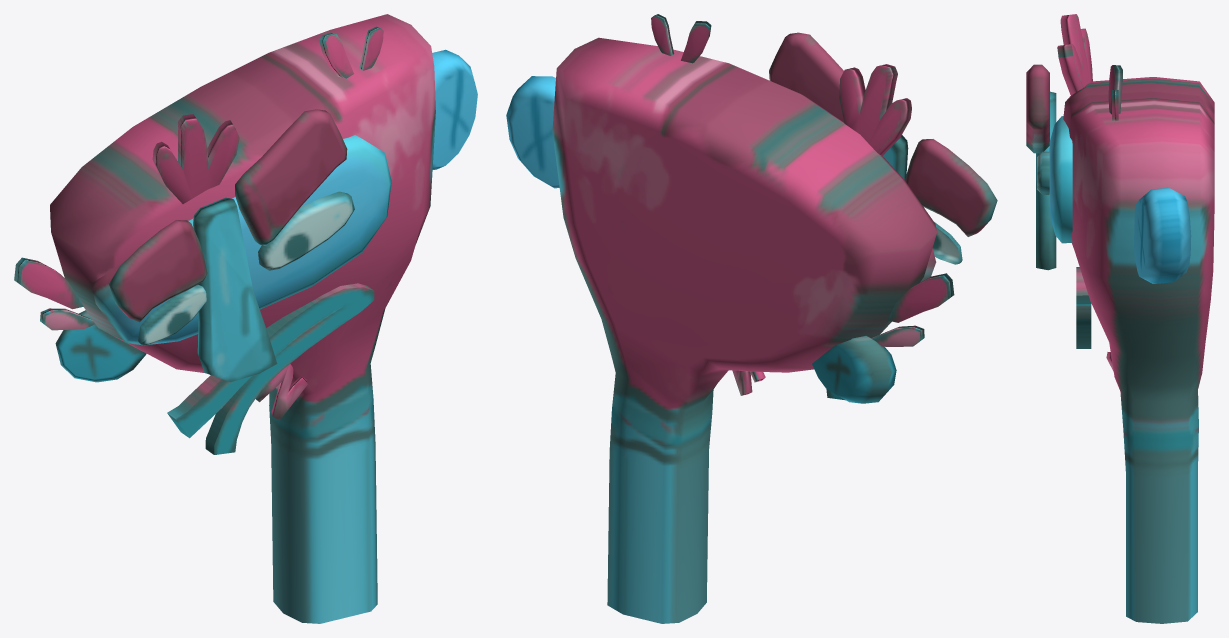
File: head_Hair.fbx
3 renders of one model, left to right at view 1: azimuth 30°, elevation 25°; view 2: azimuth 150°, elevation 25°; view 3: azimuth 270°, elevation 25°, orthographic. The views are drawn at different scales.
Visible parts, largest first — view 1: Head, eyebrowR, EyebrowL, eyeR, eyeL; view 2: Head, EyebrowL, eyebrowR, eyeL; view 3: Head, eyebrowR, eyeR.
Boxes of the visible parts, <box> form: Head: <box>14,14,477,623</box>; eyebrowR: <box>235,109,347,245</box>; EyebrowL: <box>109,220,207,322</box>; eyeR: <box>258,191,354,270</box>; eyeL: <box>138,285,206,345</box>; Head: <box>506,14,954,623</box>; EyebrowL: <box>905,139,997,236</box>; eyebrowR: <box>769,32,844,122</box>; eyeL: <box>932,222,962,264</box>; Head: <box>1036,14,1214,623</box>; eyebrowR: <box>1026,64,1049,153</box>; eyeR: <box>1037,151,1049,194</box>.
Bounding box in the file's own units: 33.54 × 41.46 × 13.38.
